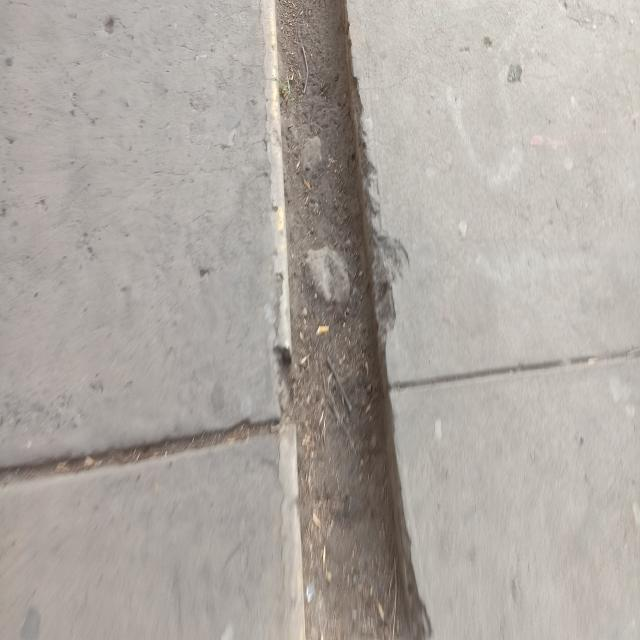hole: (268, 0, 432, 640)
